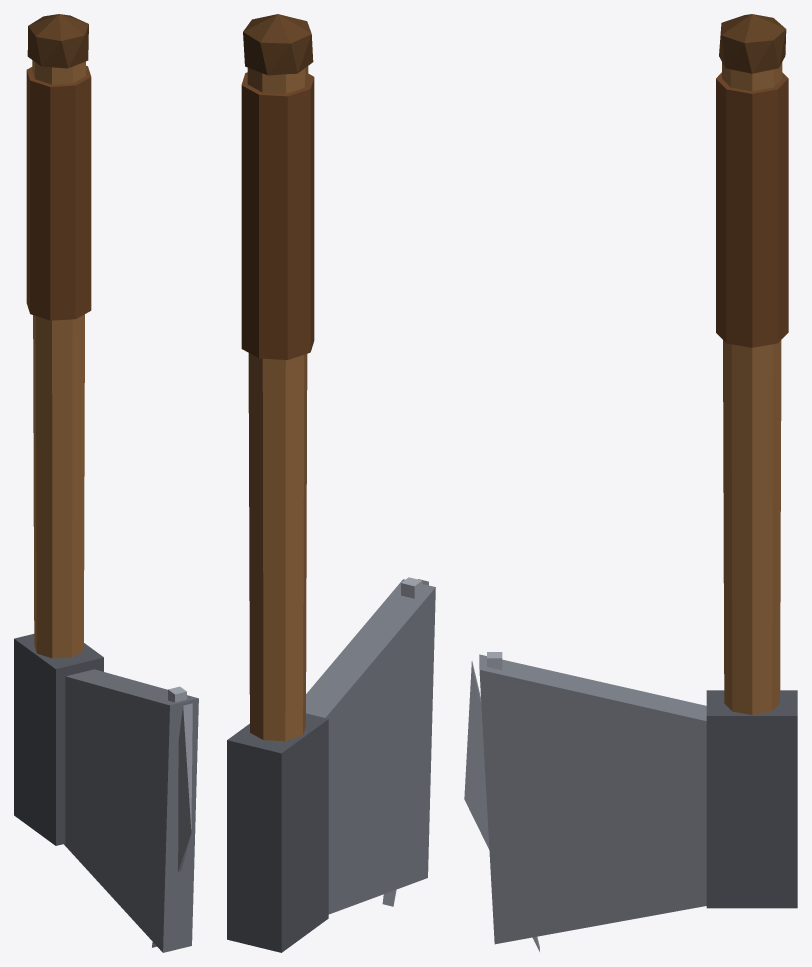
Rendered from held_iron_hatchet.glb.
The picture shows the model from 3 angles, left to right: view 1: azimuth 30°, elevation 25°; view 2: azimuth 150°, elevation 25°; view 3: azimuth 270°, elevation 25°; orthographic projection. The views are drawn at different scales.
Visible parts, largest first — view 1: held_iron_hatchet; view 2: held_iron_hatchet; view 3: held_iron_hatchet.
Boxes of the visible parts, x1=… form: held_iron_hatchet: x1=14, y1=14, x2=198, y2=952; held_iron_hatchet: x1=227, y1=14, x2=435, y2=952; held_iron_hatchet: x1=464, y1=14, x2=797, y2=951.
Bounding box in the file's own units: 0.048 × 0.682 × 0.22.
